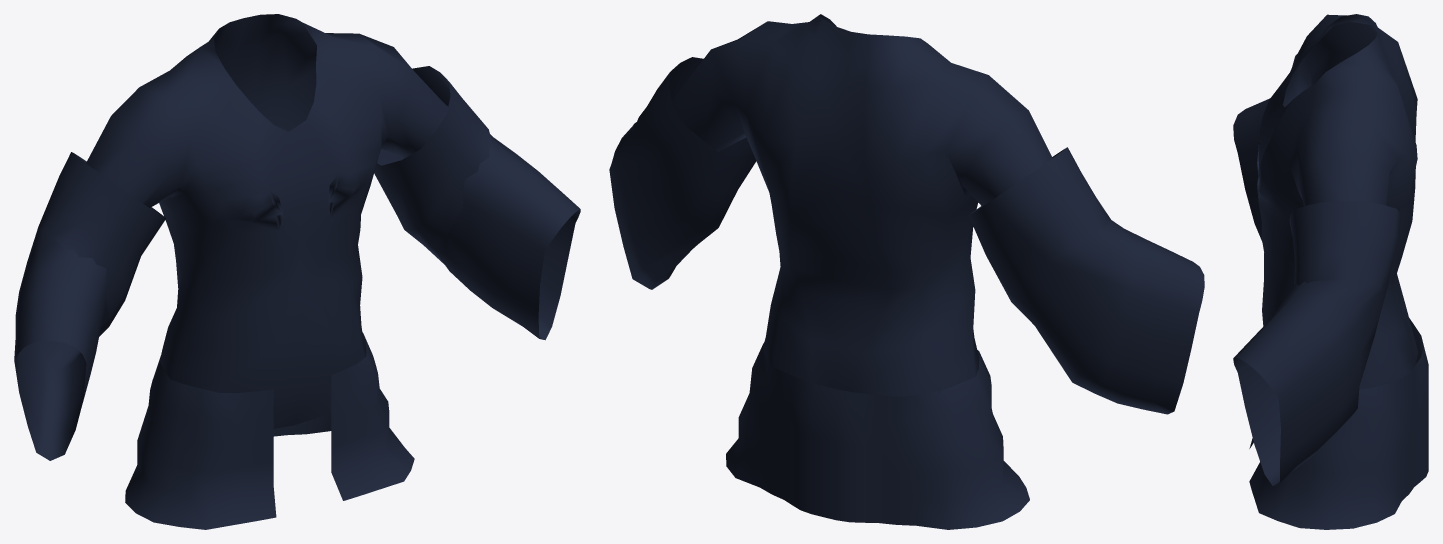
The model's file is haori.glb.
3 renders of one model, left to right at view 1: azimuth 30°, elevation 25°; view 2: azimuth 150°, elevation 25°; view 3: azimuth 270°, elevation 25°, orthographic. The views are drawn at different scales.
Parts seen in each view (by area): view 1: haori; view 2: haori; view 3: haori.
Boxes of the visible parts, left/top/right/bottom form: haori: left=14, top=14, right=580, bottom=529; haori: left=609, top=14, right=1204, bottom=529; haori: left=1233, top=14, right=1428, bottom=529.
Size of the model in its own units: 1.02 by 0.7712 by 0.3142.
